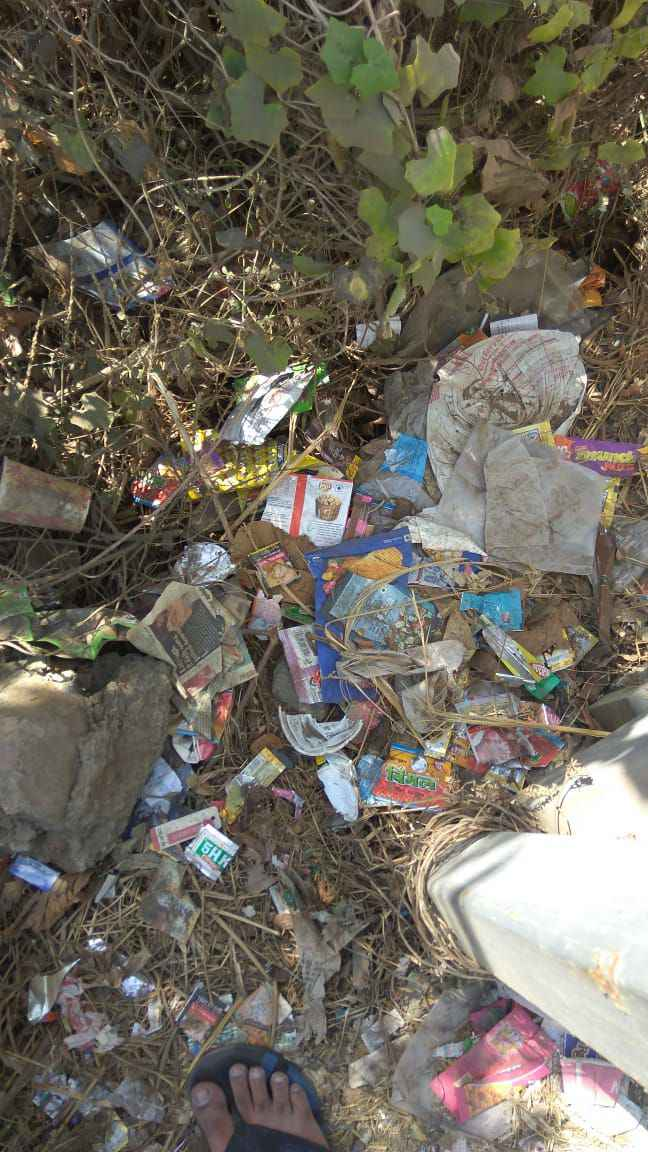Lays: (315, 480, 335, 494)
